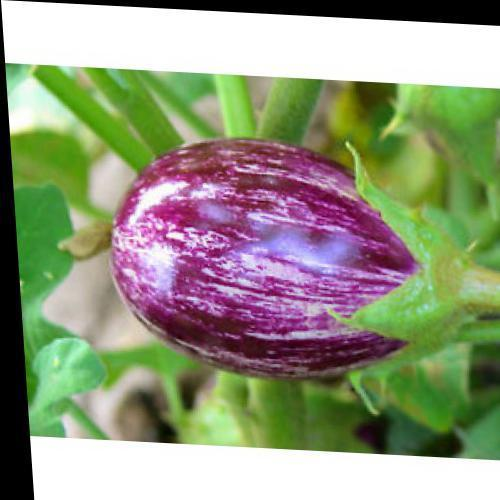eggplant: (74, 133, 499, 392)
